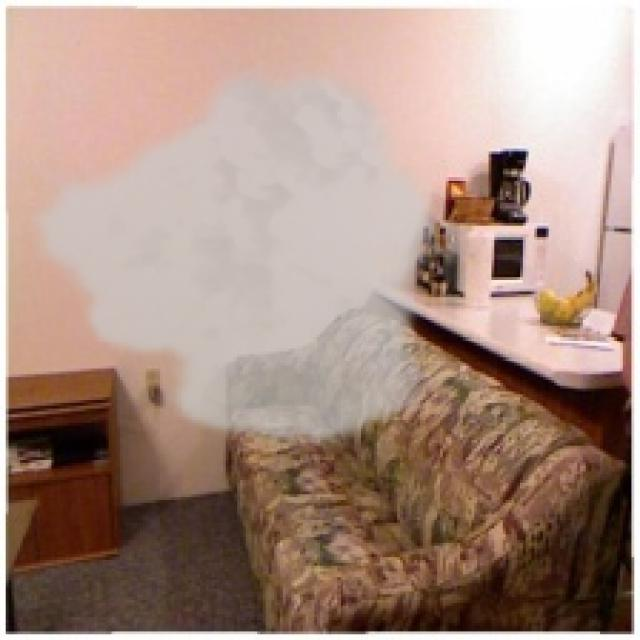smoke: (23, 57, 440, 452)
